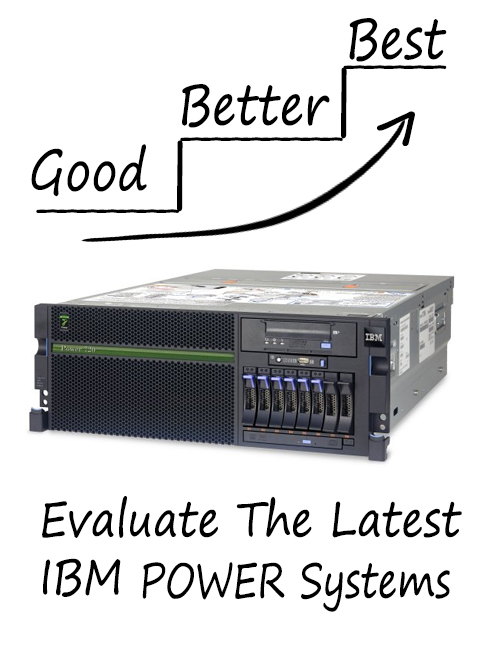ibm-server: (22, 260, 463, 471)
